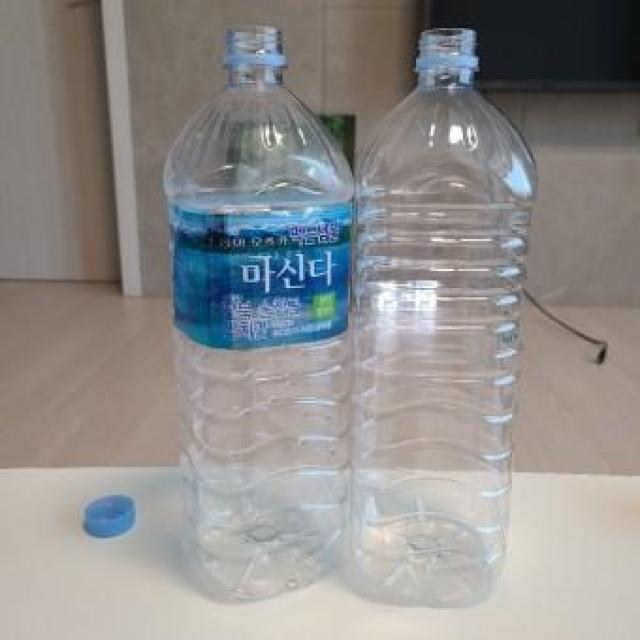bottle: (162, 27, 359, 600), (342, 30, 532, 606)
